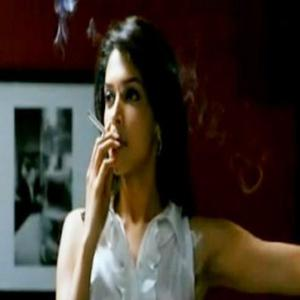cigarette: (86, 111, 107, 135)
